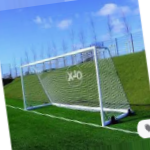goals: (19, 45, 132, 127)
